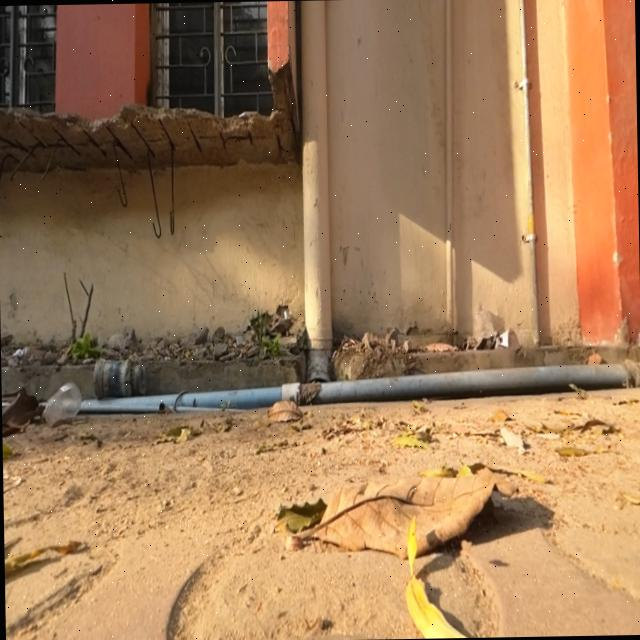spalling: (0, 69, 296, 206)
